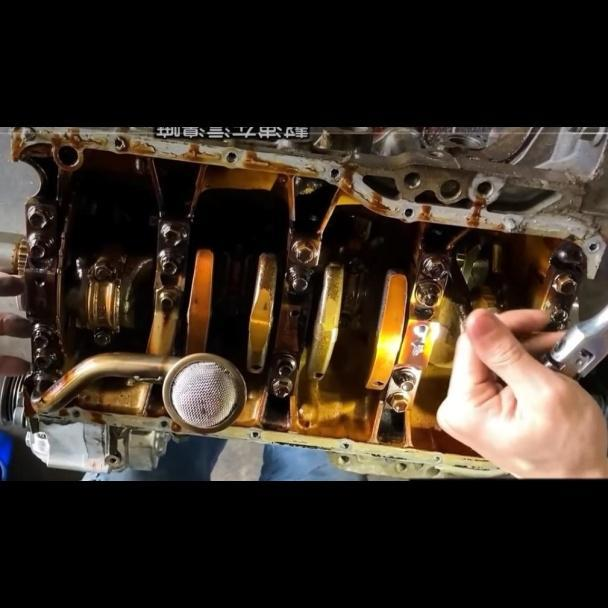hole: (106, 454, 119, 468), (225, 151, 237, 164), (112, 136, 125, 148), (586, 240, 598, 252), (401, 207, 413, 217), (247, 431, 260, 440), (329, 168, 339, 178), (70, 409, 80, 419), (430, 455, 439, 463), (158, 420, 166, 428), (340, 442, 349, 449)
